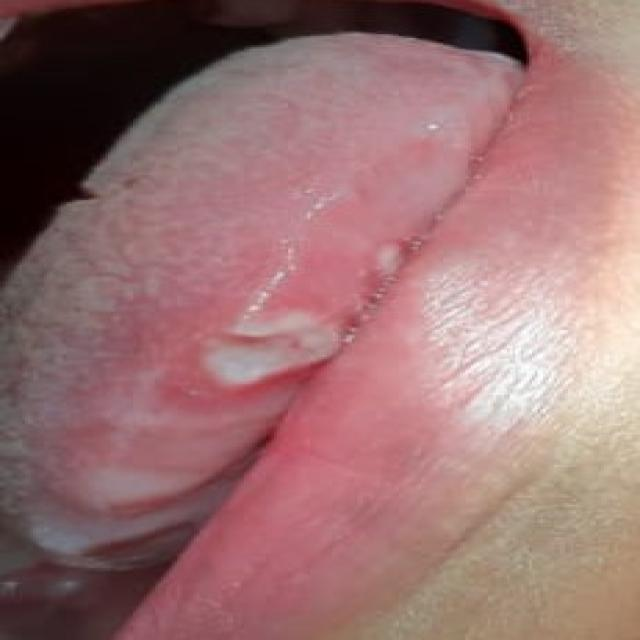Cancer: (130, 208, 387, 480)
